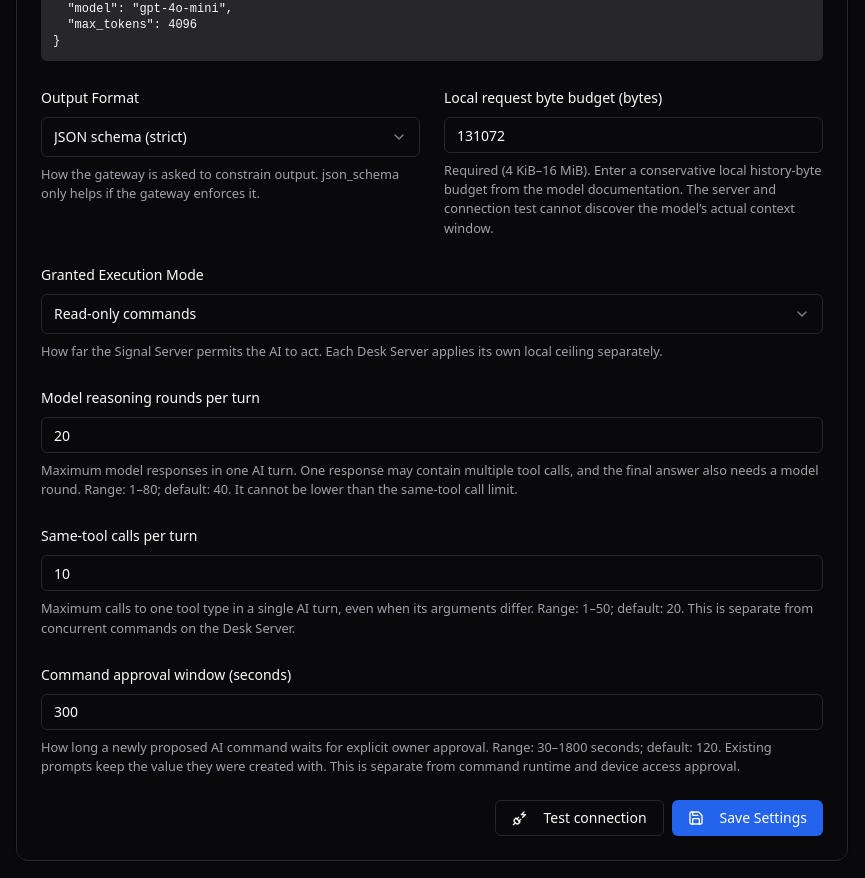
Test: AiModelSettings › prevents another save or probe while the previous save is completing
This screenshot has width=865, height=878.
(page scrolled)
Step 1. Click the button "Save Settings" → (747, 818), box x1=672 y1=800 x2=823 y2=836
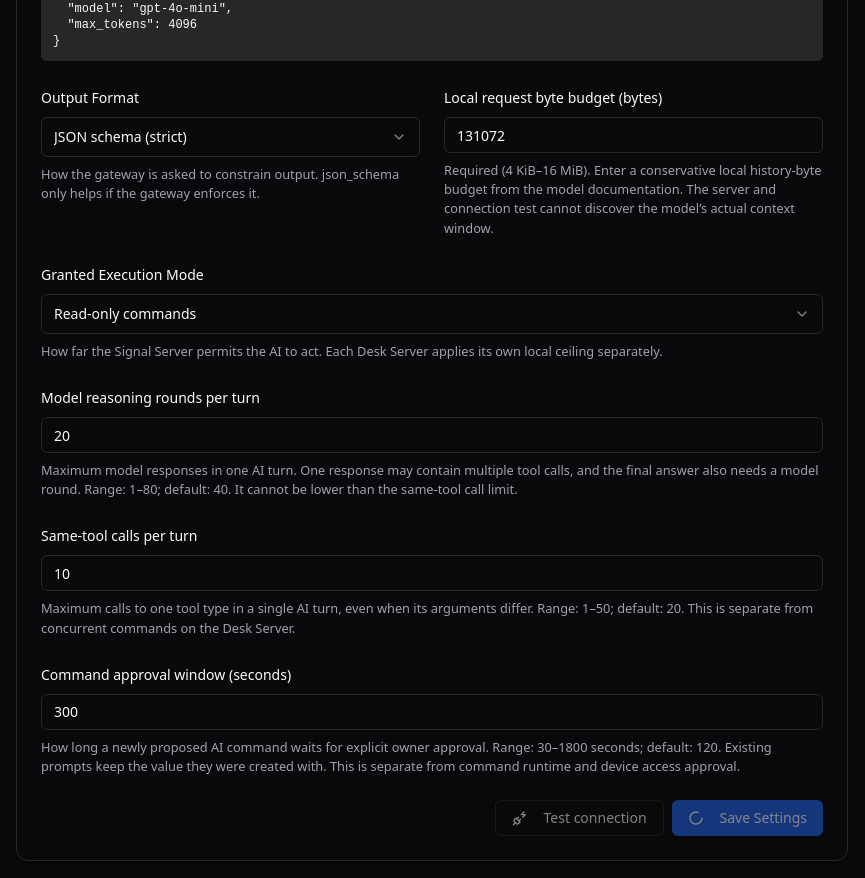
Expected: the button "Save Settings" is disabled
Expected: the button "Test connection" is disabled, x1=494 y1=800 x2=664 y2=836
Step 2. Click the button "Save Settings" → (747, 818), box x1=672 y1=800 x2=823 y2=836
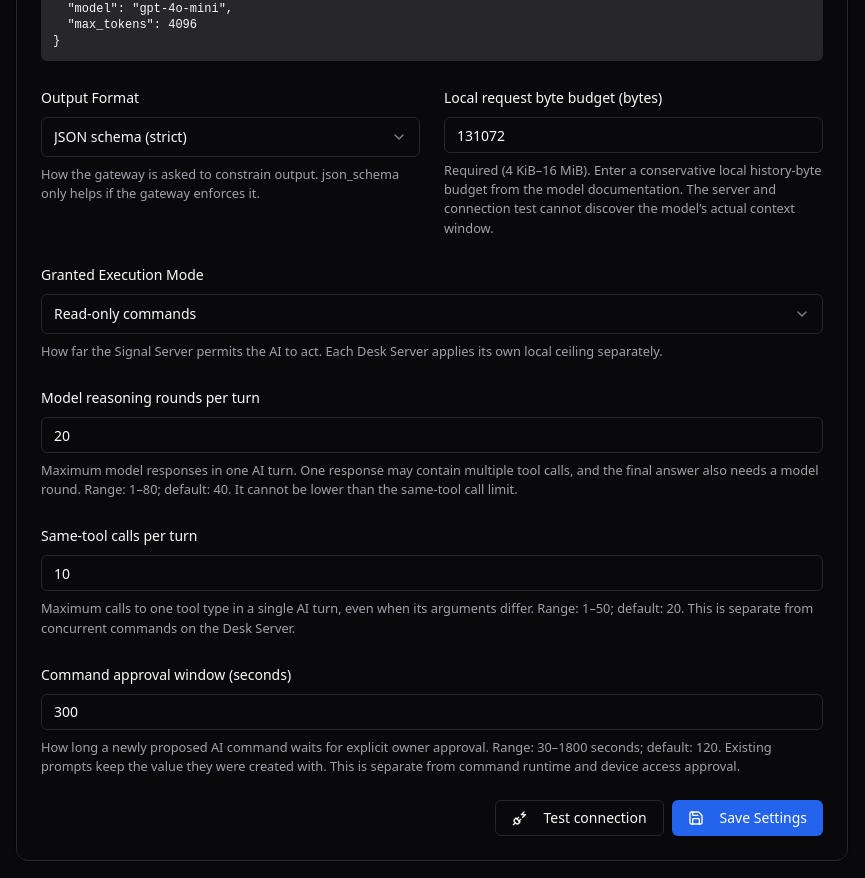
Expected: the button "Save Settings" is enabled, x1=672 y1=800 x2=823 y2=836
